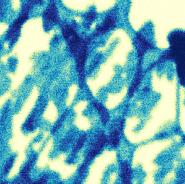hole_filled: (122, 55, 178, 143), (83, 25, 136, 110)
